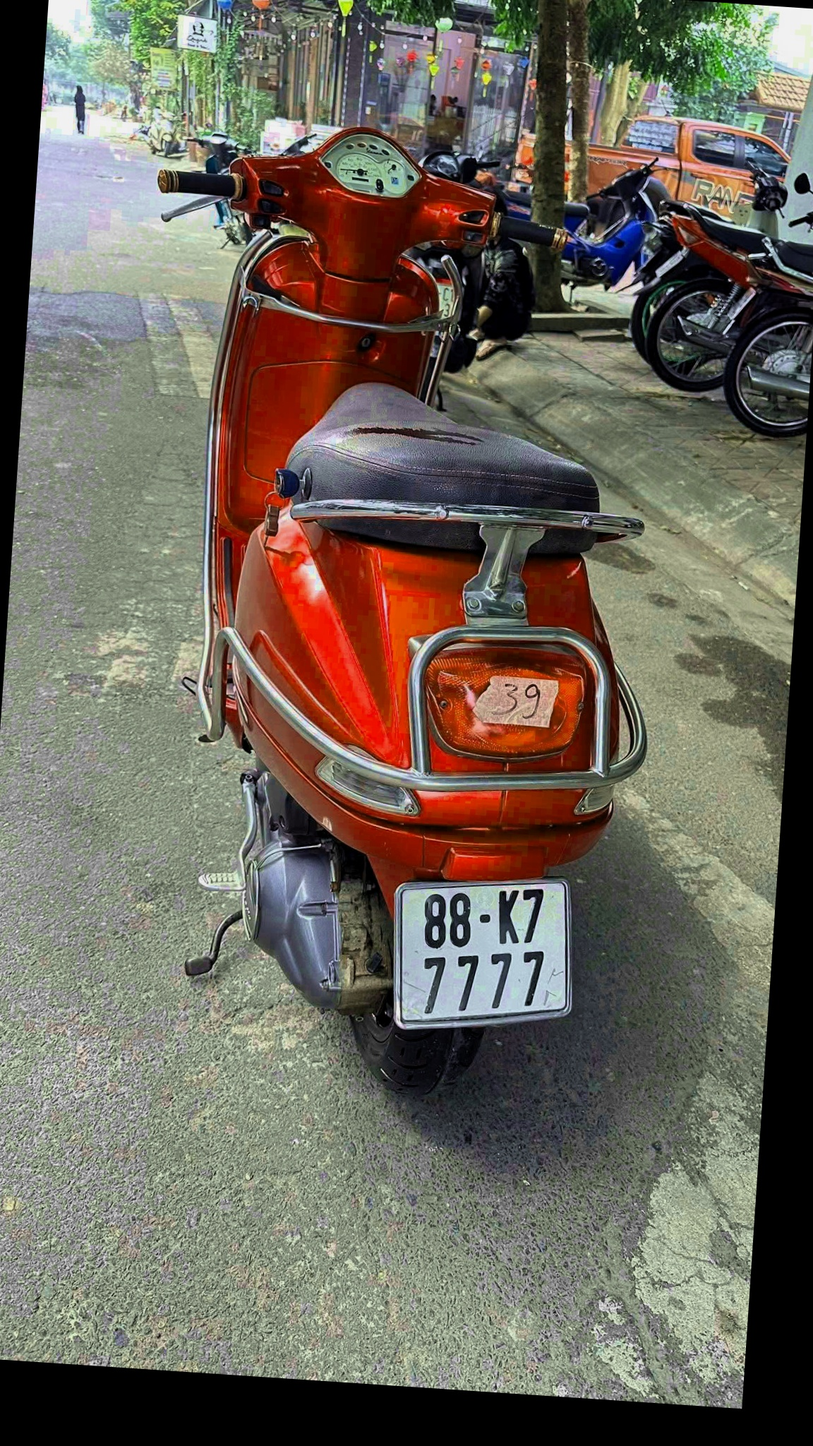Bien-so: (390, 870, 582, 1042)
